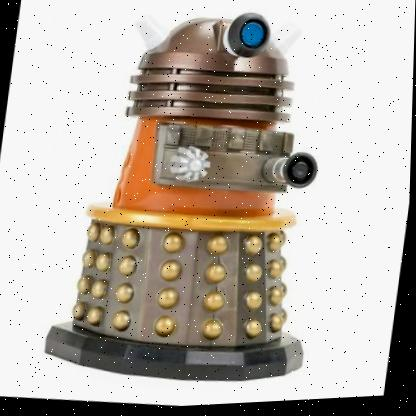dalek: (21, 0, 360, 414)
